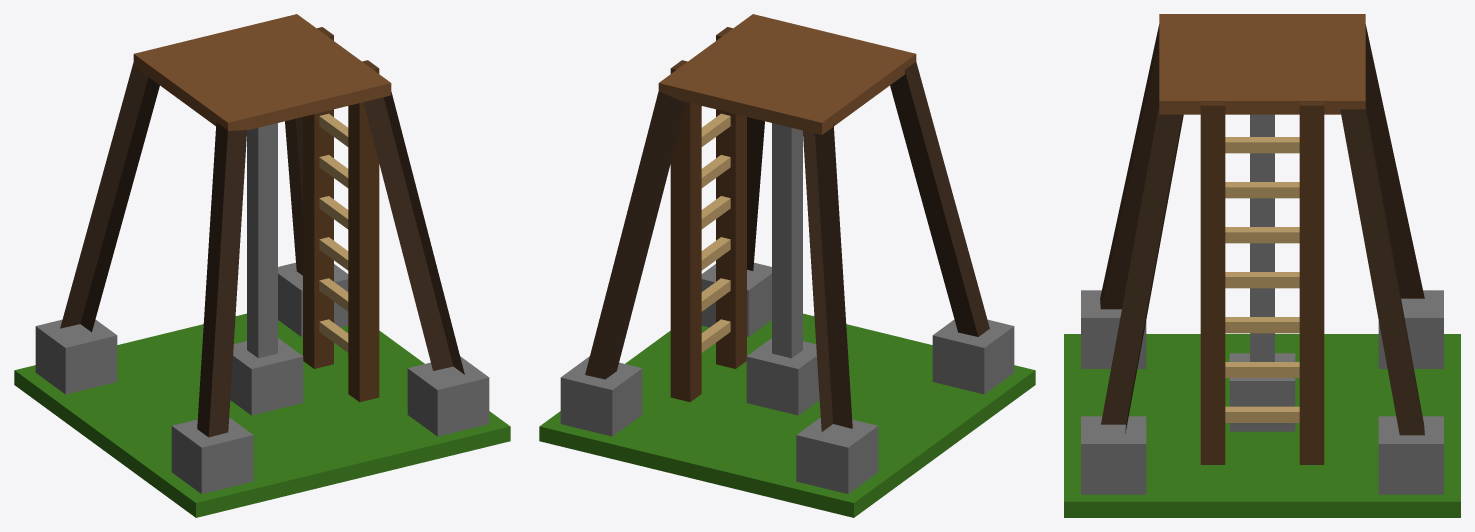
File: lvl6.glb
3 views of the same model, side by side, from view 1: azimuth 30°, elevation 25°; view 2: azimuth 150°, elevation 25°; view 3: azimuth 270°, elevation 25° (orthographic). The views are drawn at different scales.
Visible parts, largest first — view 1: Plane.005; view 2: Plane.005; view 3: Plane.005.
Boxes of the visible parts, bbox=[...] form: Plane.005: bbox=[14, 14, 510, 517]; Plane.005: bbox=[539, 14, 1035, 517]; Plane.005: bbox=[1064, 14, 1460, 517].
Bounding box in the file's own units: 4 × 4.19 × 4.
